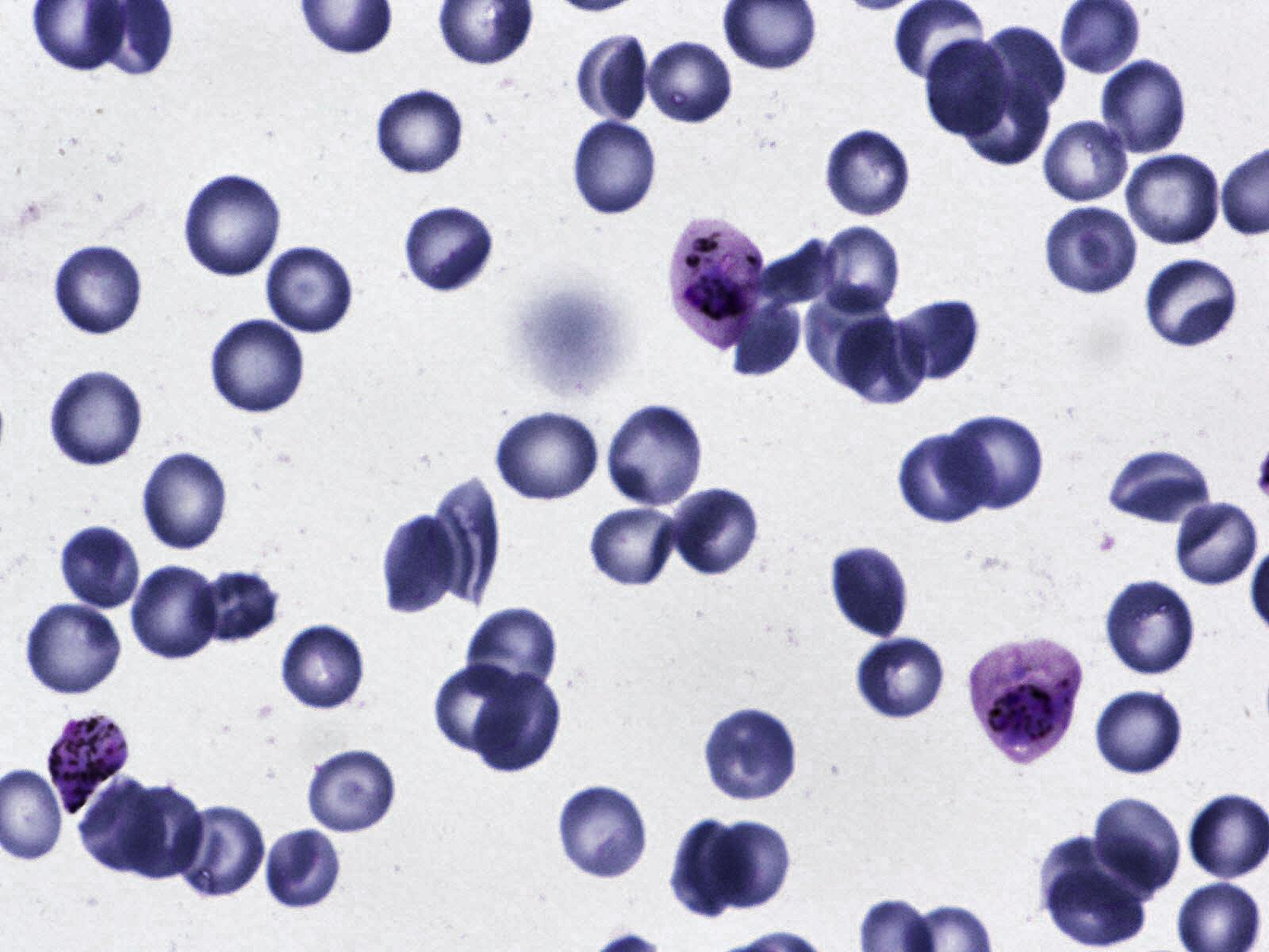Infected: (968, 641, 1087, 769), (668, 211, 764, 351), (48, 713, 134, 814)
Uninfected: (181, 163, 285, 282), (491, 401, 602, 502), (604, 401, 704, 513), (206, 313, 312, 415), (1037, 832, 1163, 917), (45, 366, 147, 469), (805, 282, 898, 393), (21, 597, 125, 696), (125, 560, 224, 661), (942, 412, 1047, 507), (1125, 149, 1222, 251), (700, 705, 801, 800), (170, 801, 265, 901), (923, 33, 1011, 140), (139, 450, 231, 552), (571, 117, 662, 220), (1107, 578, 1200, 676), (470, 672, 561, 772), (666, 820, 757, 920), (899, 429, 994, 524), (374, 83, 470, 177), (435, 664, 533, 756), (79, 774, 167, 876), (465, 602, 560, 696), (430, 475, 497, 608), (378, 510, 465, 612), (1092, 793, 1183, 890), (962, 69, 1051, 168), (303, 746, 401, 835), (1147, 255, 1240, 348), (556, 788, 648, 881), (1045, 205, 1142, 293), (401, 203, 495, 291), (1106, 445, 1212, 523), (646, 36, 738, 125), (56, 243, 144, 336), (1040, 114, 1133, 202), (1046, 867, 1146, 948), (263, 244, 355, 332), (838, 318, 926, 409), (668, 487, 760, 574), (1094, 688, 1187, 774), (1175, 498, 1262, 589), (1103, 62, 1189, 154), (573, 26, 652, 125), (825, 126, 914, 213), (853, 635, 947, 717), (57, 524, 144, 611), (120, 786, 201, 878), (590, 504, 677, 589), (980, 29, 1065, 116), (896, 294, 980, 382), (819, 224, 901, 314), (832, 542, 909, 637), (183, 566, 280, 641), (279, 627, 366, 709), (716, 820, 790, 911), (265, 827, 346, 910), (757, 237, 843, 310), (734, 295, 799, 383)
